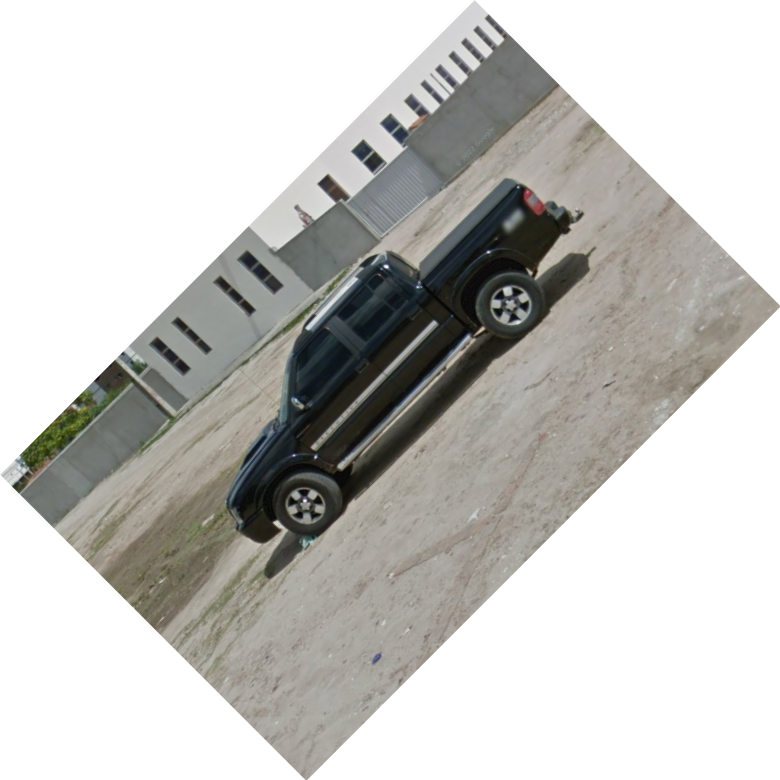car: (224, 174, 589, 545)
